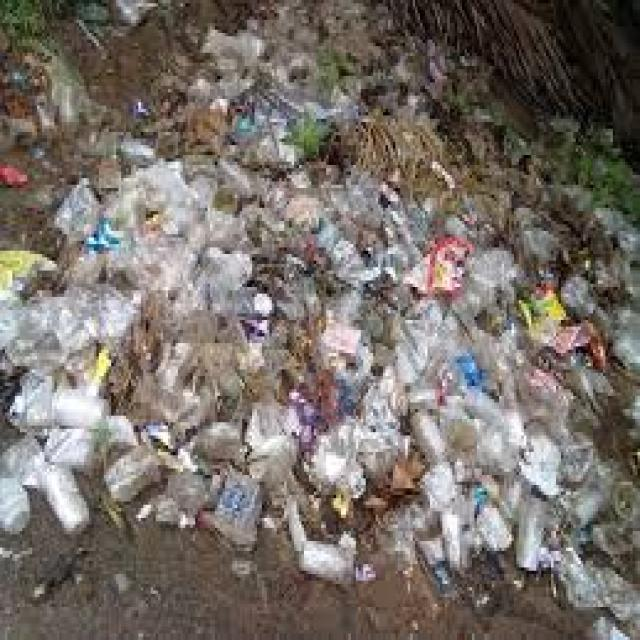heap: (197, 133, 607, 572)
